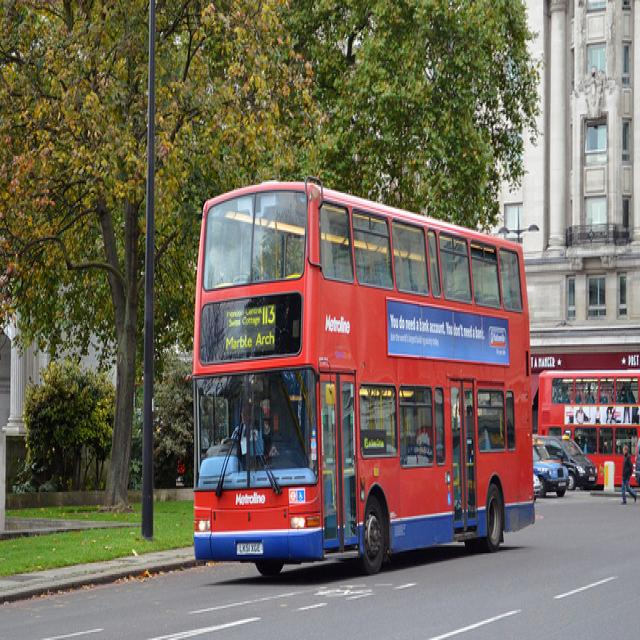Vehicle: (193, 175, 536, 580), (538, 370, 639, 485), (532, 433, 601, 491), (532, 438, 569, 498), (534, 475, 540, 503)
